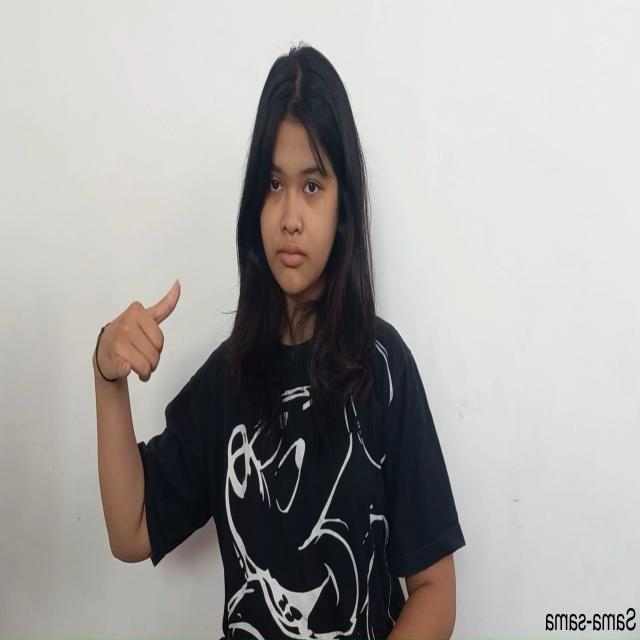Sama-sama -BISINDO-: (90, 274, 183, 387)
